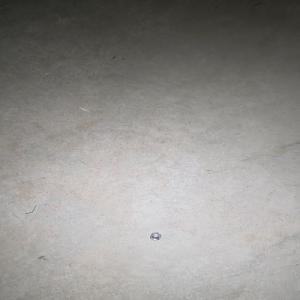Nut: (148, 233, 162, 240)
